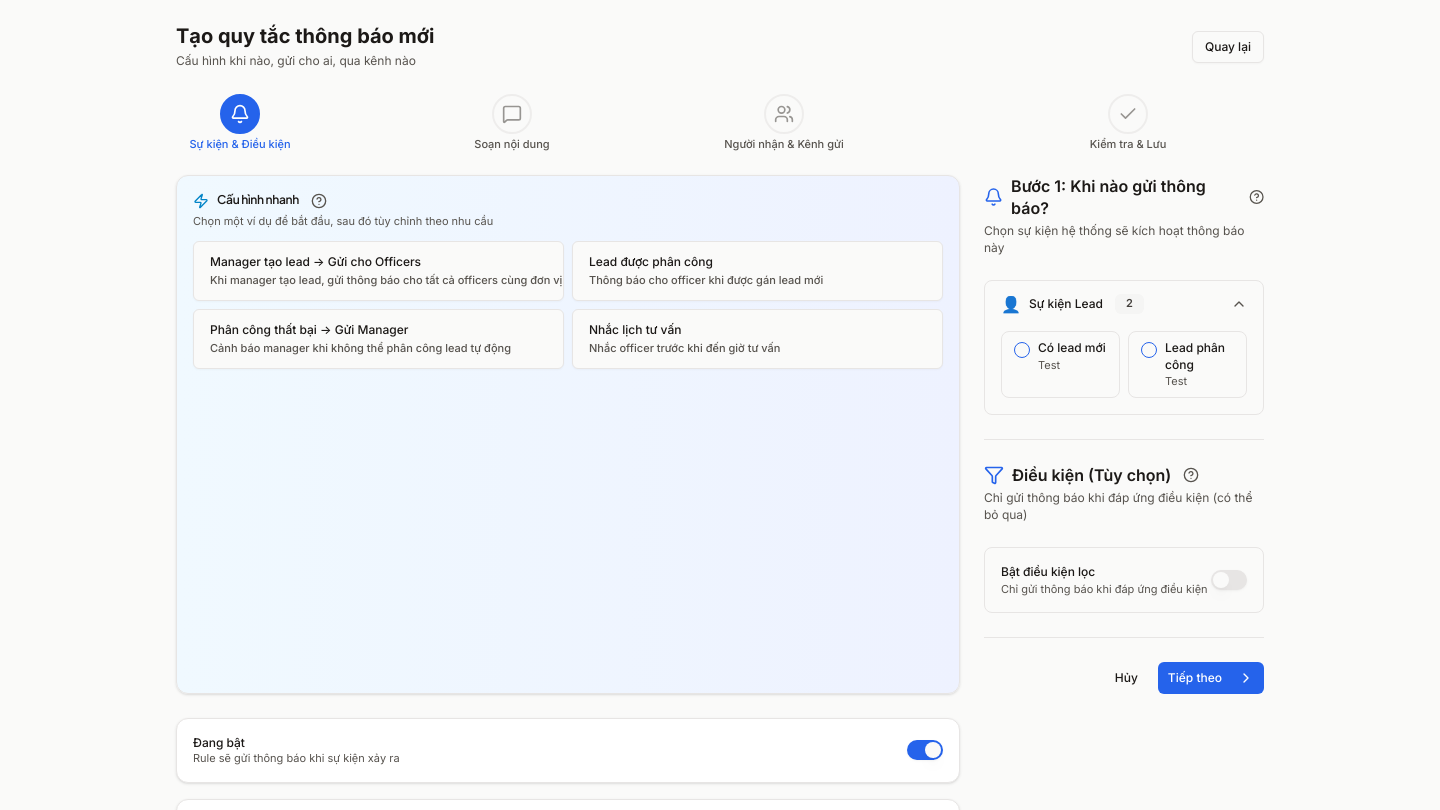
Test: NotificationRuleEditor — step navigation › navigates to step 2 via quick template click
The image size is (1440, 810).
Click the text "Lead được phân công". click: x=651, y=261
box: 589,254 -> 713,268
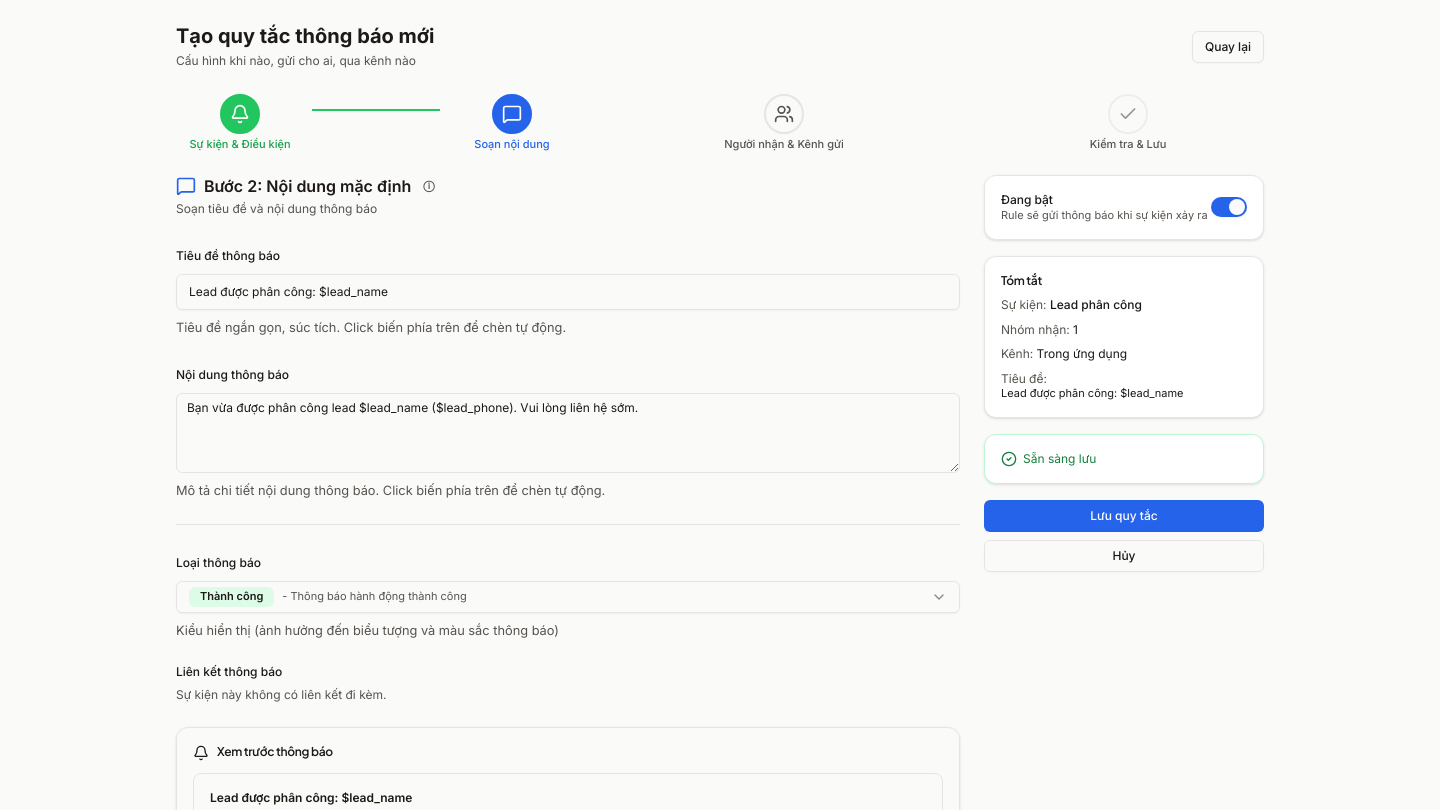
Expected: the heading "Bước 2: Nội dung mặc định ⓘ" is shown, 176,176 -> 434,196
